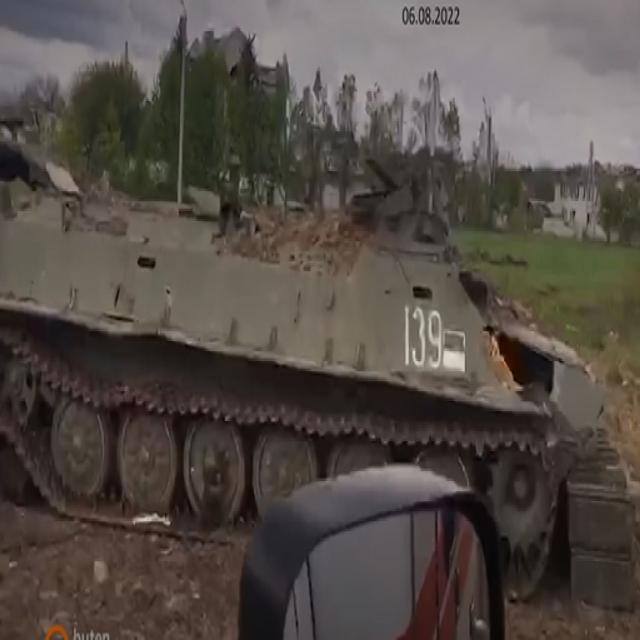APC-IFV: (0, 140, 598, 600)
